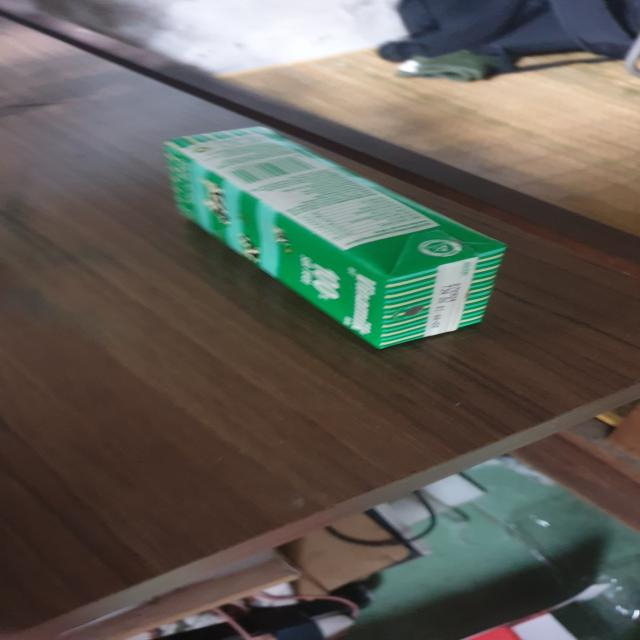Vina: (157, 126, 512, 355)
